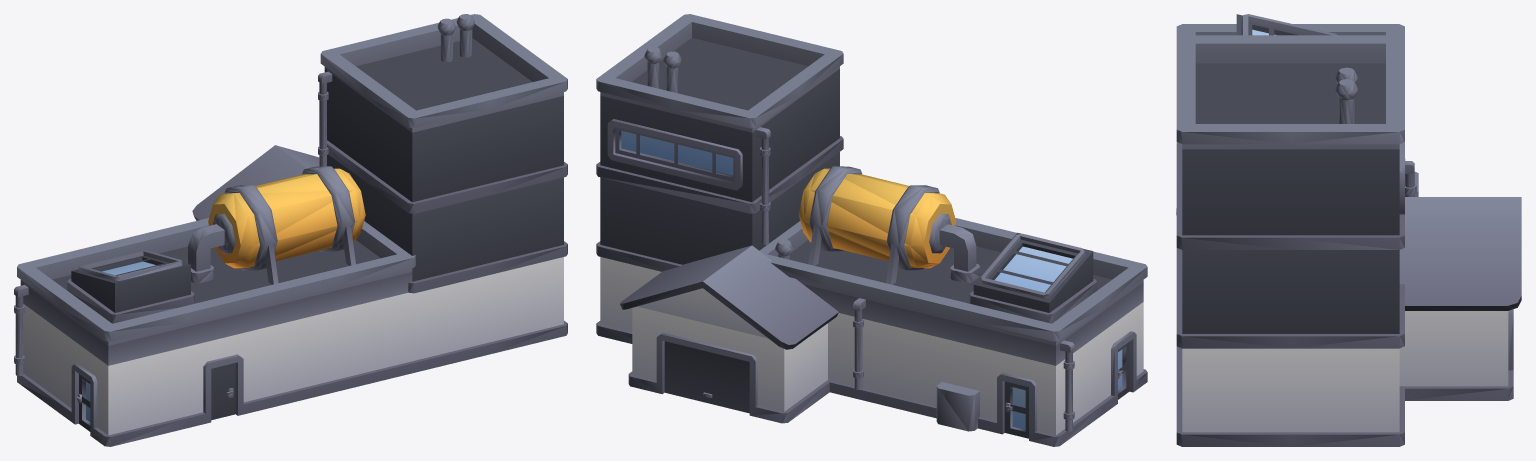
Rendered from ki_building_r.fbx.
3 renders of one model, left to right at view 1: azimuth 30°, elevation 25°; view 2: azimuth 150°, elevation 25°; view 3: azimuth 270°, elevation 25°, orthographic. The views are drawn at different scales.
Parts seen in each view (by area): view 1: ki_building_r_LOD0; view 2: ki_building_r_LOD0; view 3: ki_building_r_LOD0.
Boxes of the visible parts, x1,y1,x2,y2 form: ki_building_r_LOD0: (14,14,567,446); ki_building_r_LOD0: (596,14,1147,446); ki_building_r_LOD0: (1176,14,1521,446).
Size of what is drawn, in the model's own units: 21.11 by 11.84 by 10.81.
Materials: 1 (1 with a texture image).
